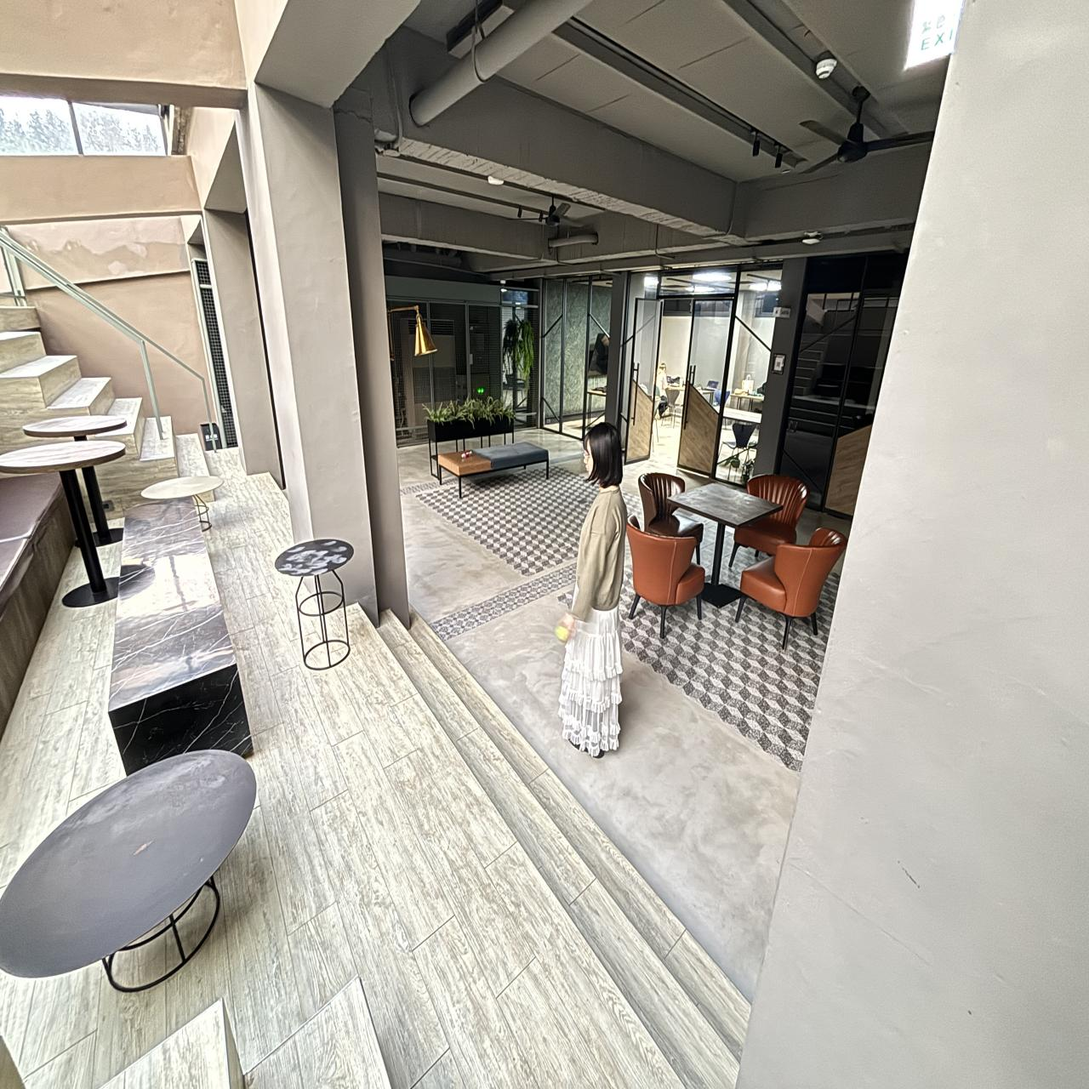person: (560, 423, 627, 757)
tennisball: (556, 625, 570, 642)
